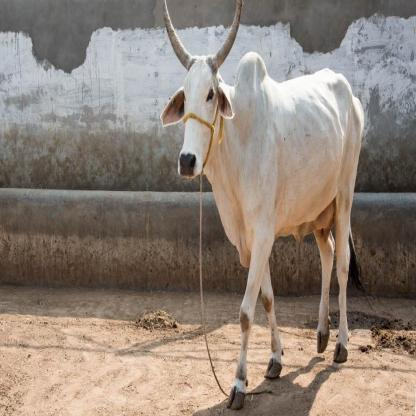cow: (162, 60, 363, 407)
